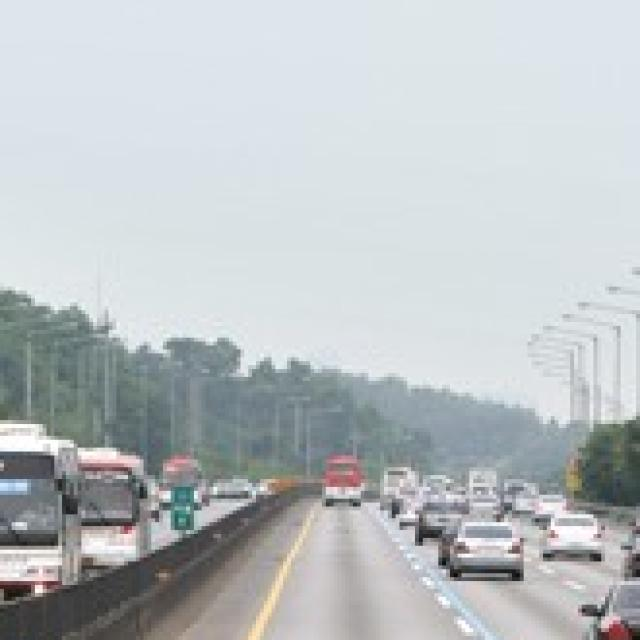bus: (0, 423, 82, 600), (69, 443, 150, 574), (322, 453, 365, 507)
car: (442, 514, 529, 580), (574, 569, 640, 640), (540, 508, 608, 562), (616, 526, 640, 581)
